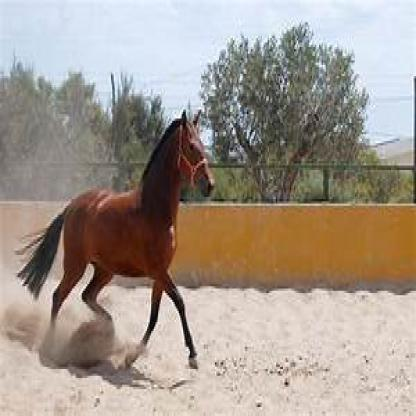horse: (18, 103, 216, 371)
